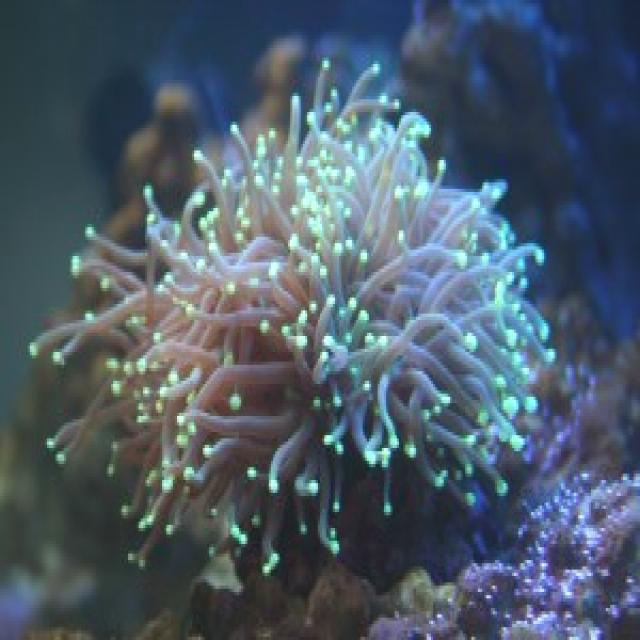Coral: (28, 57, 561, 579), (368, 467, 640, 640)
